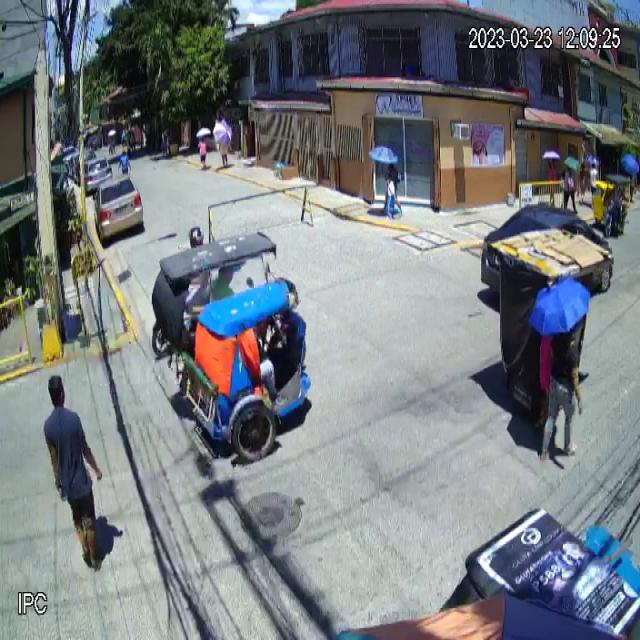Car: (92, 173, 144, 240)
Tricycle: (159, 229, 311, 461)
